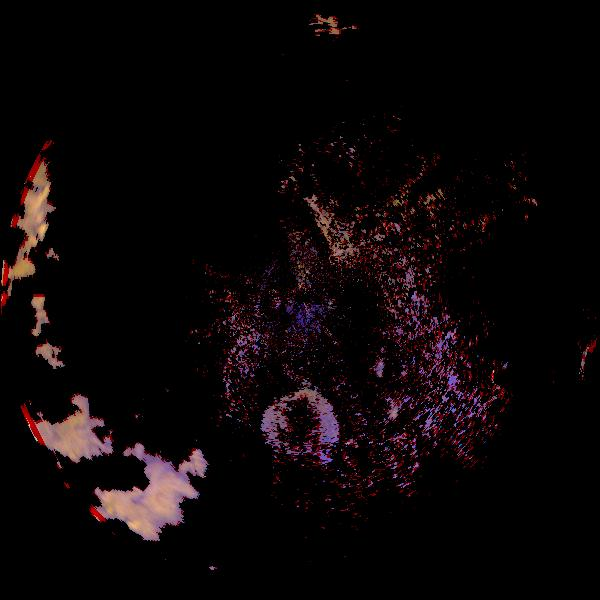roost: (254, 379, 350, 475)
